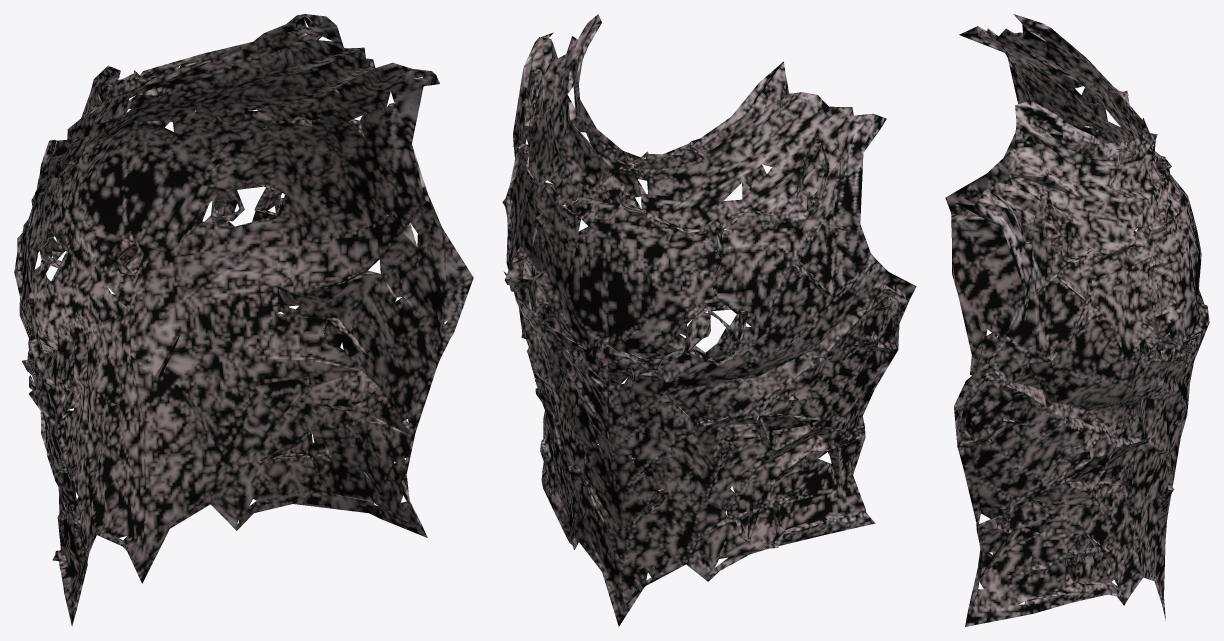
Rendered from vampire_chestplate_LOD2.glb.
3 renders of one model, left to right at view 1: azimuth 30°, elevation 25°; view 2: azimuth 150°, elevation 25°; view 3: azimuth 270°, elevation 25°, orthographic. The views are drawn at different scales.
Visible parts, largest first — view 1: vampire_chestplate_LOD2; view 2: vampire_chestplate_LOD2; view 3: vampire_chestplate_LOD2.
Boxes of the visible parts, <box> form: vampire_chestplate_LOD2: <box>14,14,473,626</box>; vampire_chestplate_LOD2: <box>502,14,916,626</box>; vampire_chestplate_LOD2: <box>945,14,1209,626</box>.
Bounding box in the file's own units: 0.5823 × 0.772 × 0.3284.
1 material, 1 textured.
